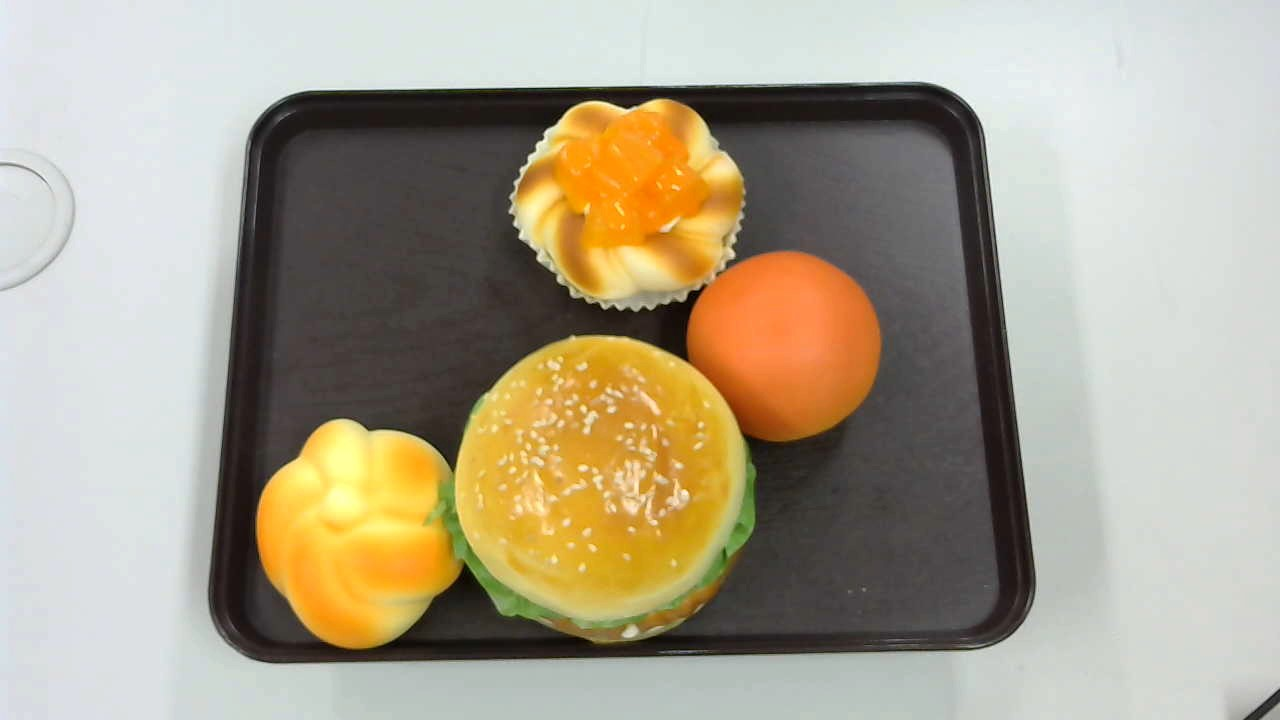bun: (688, 249, 882, 444)
hamburger: (452, 333, 754, 645)
mango tart: (510, 99, 749, 313)
twist bread: (256, 419, 462, 650)
